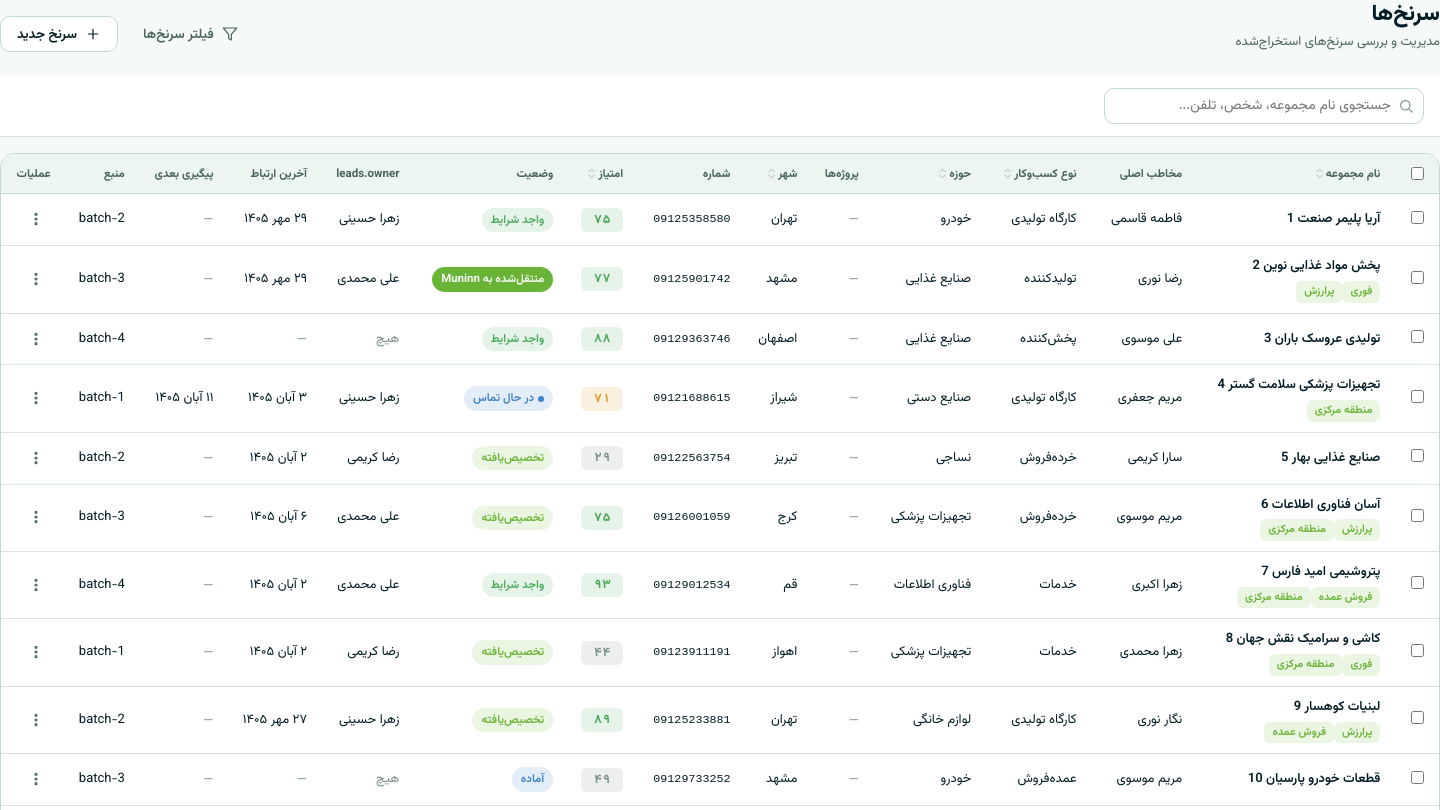
Test: lead management › creates an individual lead with a source
Expected: the link "آریا پلیمر صنعت 1" is shown, [1287, 210, 1380, 230]
Click the button "سرنخ جدید" at point(59, 34), box [0, 16, 118, 52]
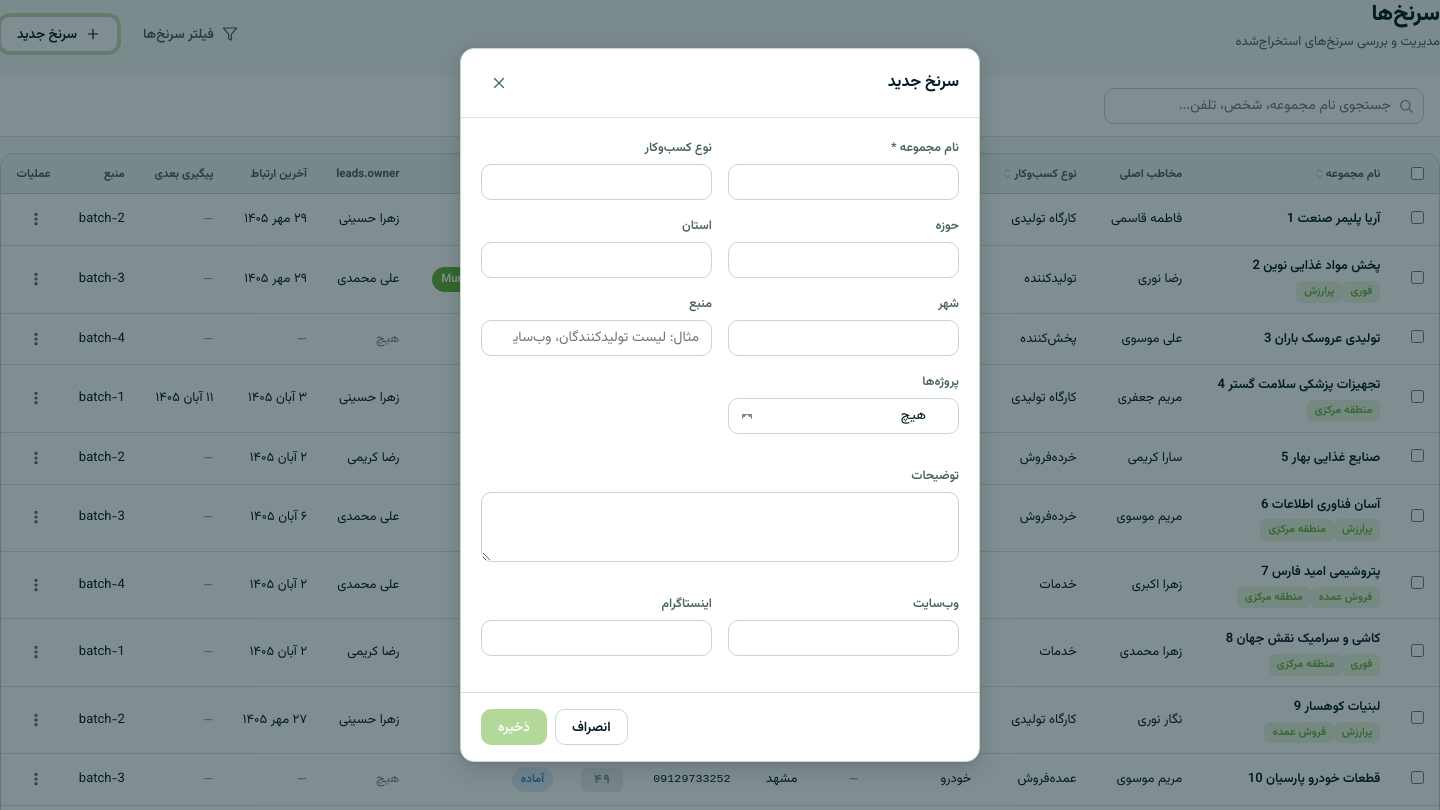
Now the dialog is shown
Type "سرنخ دستی تست" into the field labelled "نام مجموعه *" at point(844, 182), box [728, 164, 959, 200]
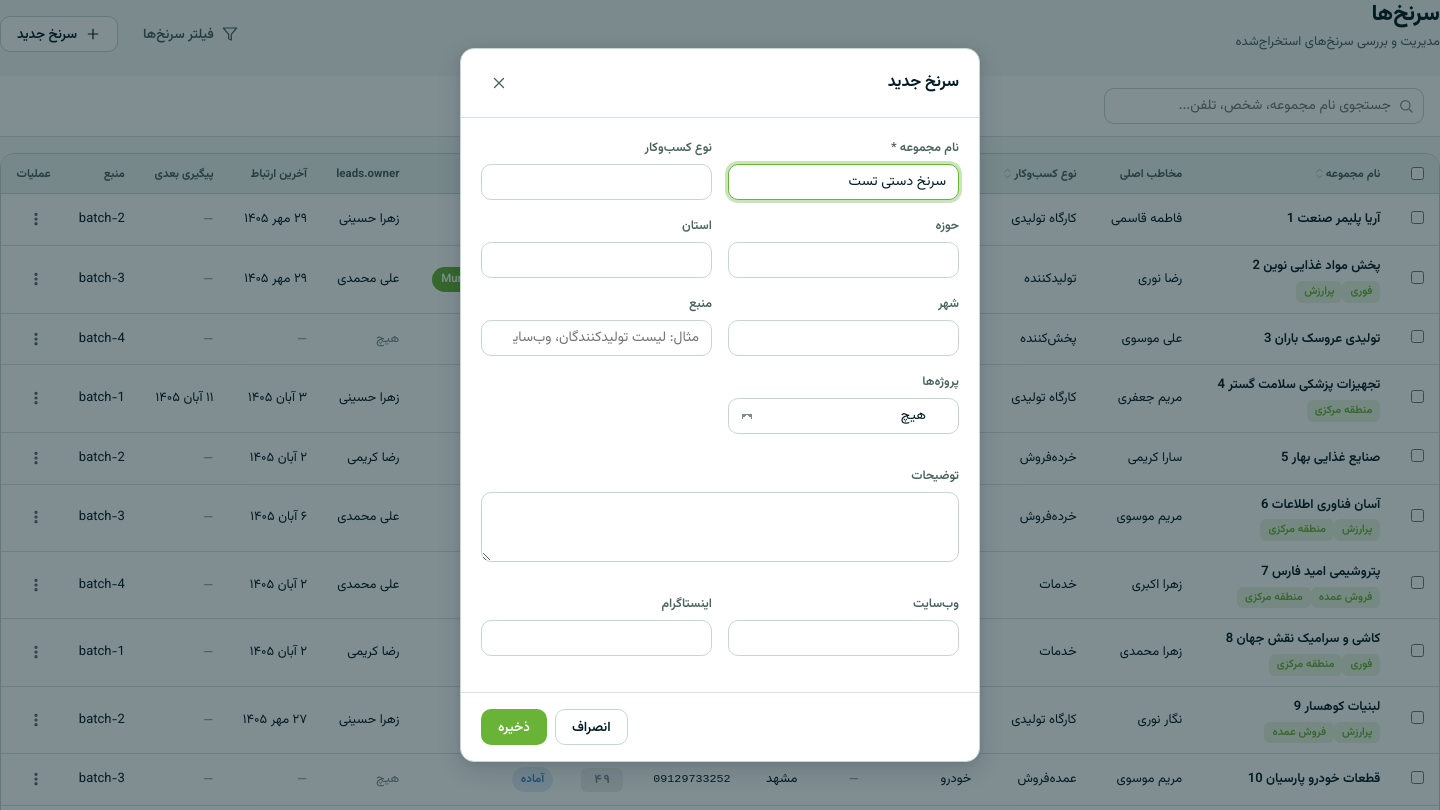
Type "دستی" into the field labelled "منبع" at point(596, 338), box [481, 320, 712, 356]
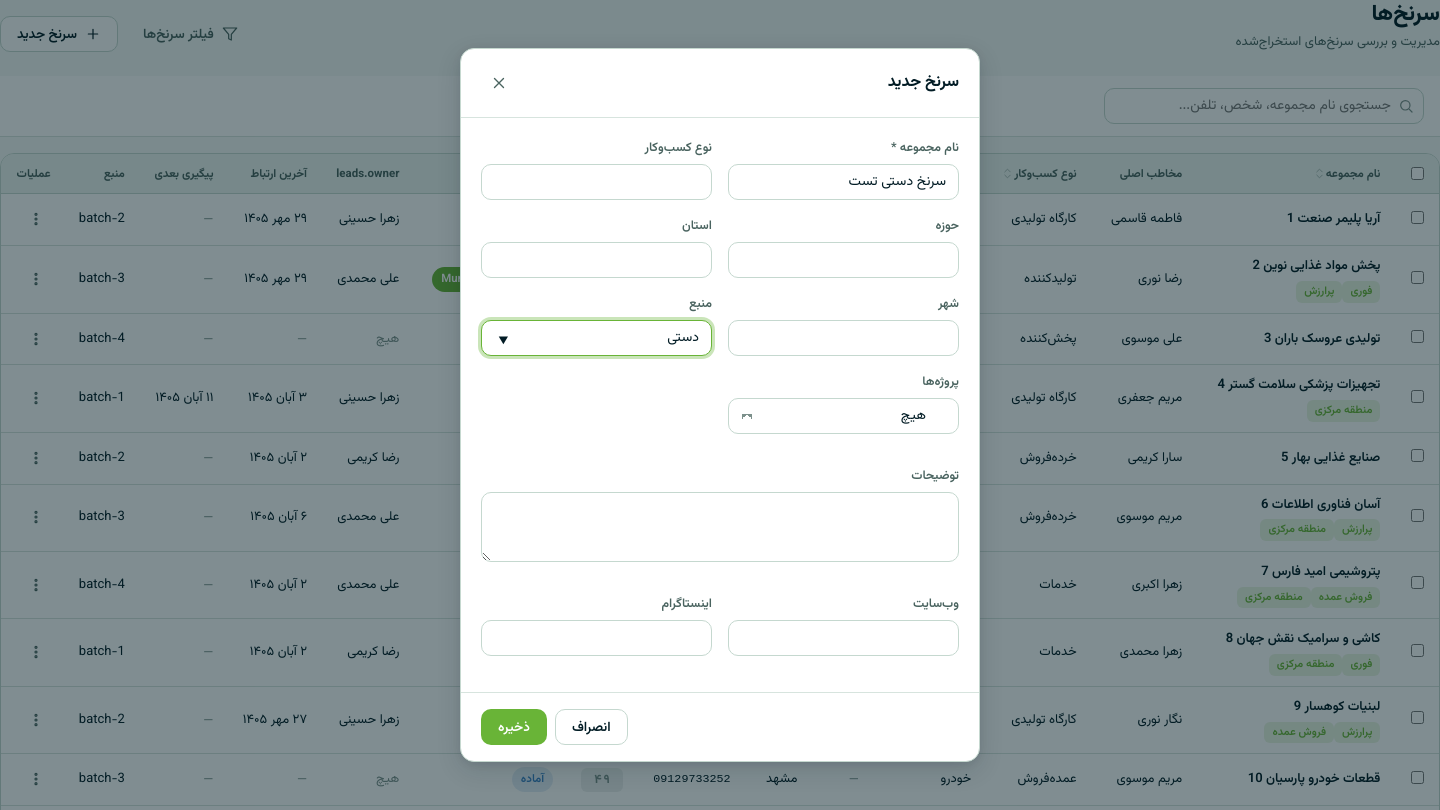
Click the button "ذخیره" at point(514, 727), box [481, 709, 547, 745]
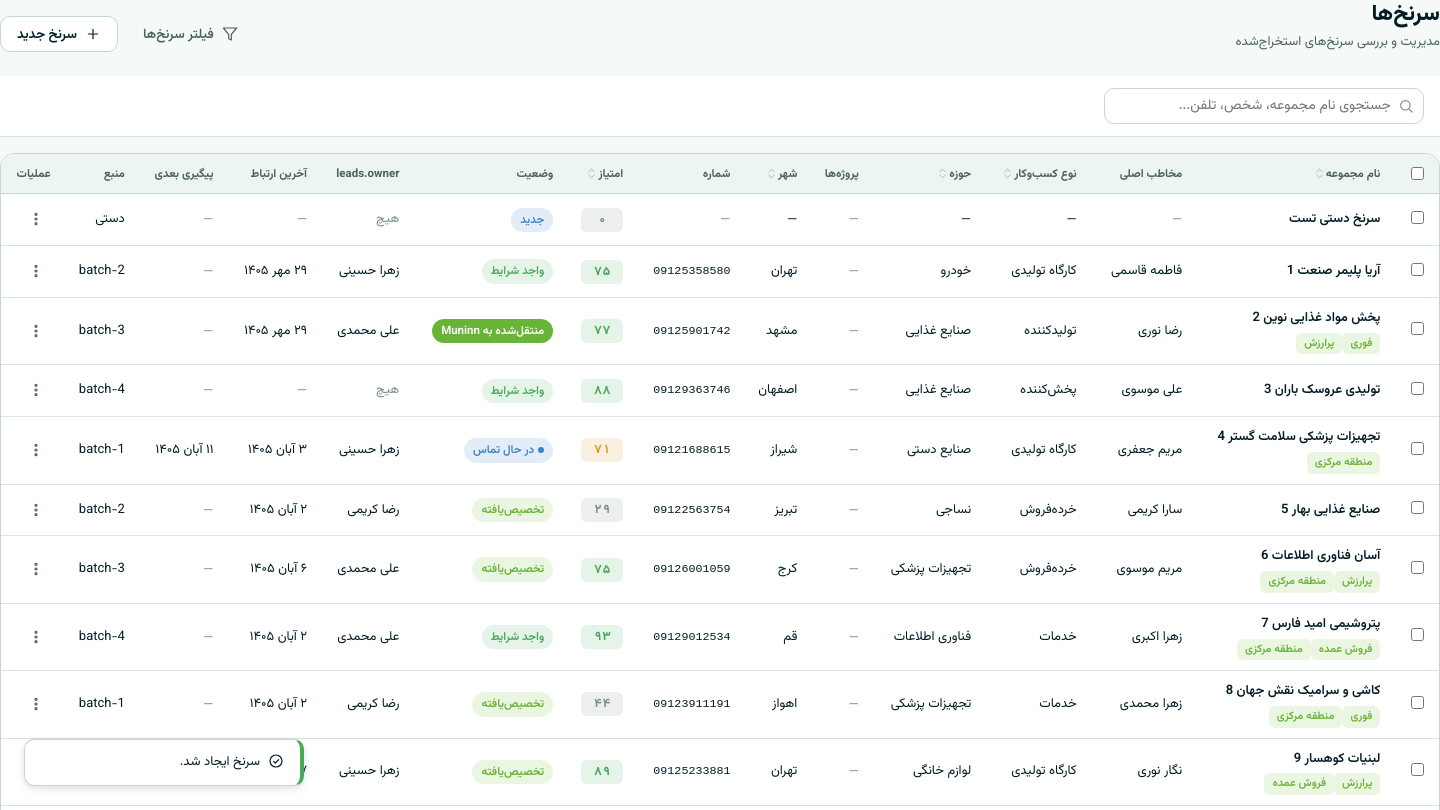
Now the link "سرنخ دستی تست" is shown, box [1289, 210, 1380, 230]
Now the dialog is gone
